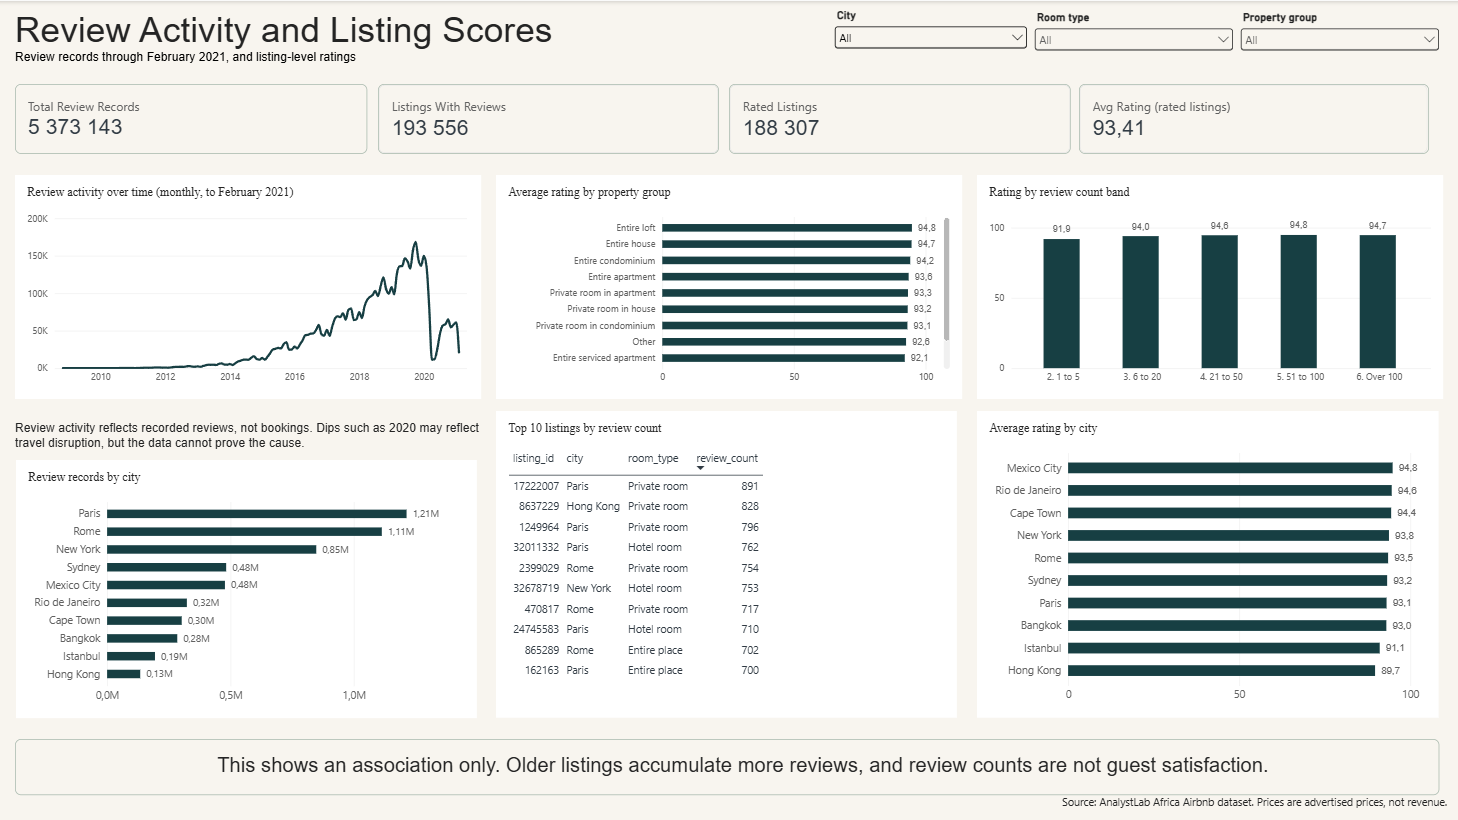

What the dashboard file says about the page in this screenshot:
{"tool":"powerbi","page":{"name":"Review Activity and Listing Scores","canvas":[1920,1080],"ordinal":3},"visuals":[{"type":"textbox","box":[1398.4,1046,515.9,33.3],"z":0},{"type":"textbox","title":"Review Activity and Listing Scores","box":[11.1,11.1,1009.5,87.3],"z":1000},{"type":"slicer","fields":{"Values":["dim_city.city"]},"box":[987.3,12.7,263.5,77.8],"z":2000},{"type":"cardVisual","fields":{"Data":["listings_clean.Total Review Records"]},"box":[11.1,109.5,449.2,92.1],"z":3000},{"type":"cardVisual","fields":{"Data":["listings_clean.Listings With Reviews"]},"box":[488.9,109.5,449.2,92.1],"z":4000},{"type":"cardVisual","fields":{"Data":["listings_clean.Rated Listings"]},"box":[958.7,109.5,449.2,92.1],"z":5000},{"type":"cardVisual","fields":{"Data":["listings_clean.Avg Rating (rated listings)"]},"box":[1431.7,109.5,449.2,92.1],"z":6000},{"type":"lineChart","title":"Review activity over time (monthly, to February 2021)","fields":{"Category":["review_activity_monthly.review_month.Variation.Date Hierarchy.Year","review_activity_monthly.review_month.Variation.Date Hierarchy.Quarter","review_activity_monthly.review_month.Variation.Date Hierarchy.Month","review_activity_monthly.review_month.Variation.Date Hierarchy.Day"],"Y":["listings_clean.Total Review Records"]},"box":[11.1,228.6,607.9,295.2],"z":7000},{"type":"clusteredBarChart","title":"Review records by city records","fields":{"Category":["dim_city.city"],"Y":["listings_clean.Total Review Records"]},"box":[11.1,647.6,607.9,295.2],"z":8000},{"type":"barChart","title":"Average rating by property group","fields":{"Category":["dim_property_type.property_type_group"],"Y":["listings_clean.Avg Rating (rated listings)"]},"box":[642.9,228.6,607.9,295.2],"z":9000},{"type":"barChart","title":"Average rating by city","fields":{"Category":["dim_city.city"],"Y":["listings_clean.Avg Rating (rated listings)"]},"box":[1273,647.6,607.9,295.2],"z":10000},{"type":"columnChart","title":"Rating by review count band","fields":{"Category":["listings_clean.Review Count Band"],"Y":["listings_clean.Avg Rating (rated listings)","listings_clean.Avg Rating (rated listings)"]},"box":[1273,228.6,607.9,295.2],"z":11000},{"type":"tableEx","title":"Top 10 listings by review count","fields":{"Values":["listings_clean.listing_id","dim_city.city","dim_room_type.room_type","listings_clean.review_count"]},"box":[642.9,647.6,607.9,295.2],"z":12000},{"type":"slicer","fields":{"Values":["dim_property_type.property_type_group"]},"box":[1546,12.7,271.4,60.3],"z":13000},{"type":"slicer","fields":{"Values":["dim_room_type.room_type"]},"box":[1261.9,11.1,271.4,60.3],"z":14000},{"type":"textbox","box":[11.1,555.6,631.7,50.8],"z":15000},{"type":"textbox","box":[134.9,971.4,1569.8,61.9],"z":16000}]}

Visuals, with their boxes in screenshot pixels (x1, y1, x2, y2), scaled from the page's 1920x1080 canvas onto the 1458x820 screenshot:
textbox: (left=1062, top=794, right=1454, bottom=819)
"Review Activity and Listing Scores" textbox: (left=8, top=8, right=775, bottom=75)
slicer - dim_city.city: (left=750, top=10, right=950, bottom=69)
cardVisual - listings_clean.Total Review Records: (left=8, top=83, right=350, bottom=153)
cardVisual - listings_clean.Listings With Reviews: (left=371, top=83, right=712, bottom=153)
cardVisual - listings_clean.Rated Listings: (left=728, top=83, right=1069, bottom=153)
cardVisual - listings_clean.Avg Rating (rated listings): (left=1087, top=83, right=1428, bottom=153)
"Review activity over time (monthly, to February 2021)" lineChart: (left=8, top=174, right=470, bottom=398)
"Review records by city records" clusteredBarChart: (left=8, top=492, right=470, bottom=716)
"Average rating by property group" barChart: (left=488, top=174, right=950, bottom=398)
"Average rating by city" barChart: (left=967, top=492, right=1428, bottom=716)
"Rating by review count band" columnChart: (left=967, top=174, right=1428, bottom=398)
"Top 10 listings by review count" tableEx: (left=488, top=492, right=950, bottom=716)
slicer - dim_property_type.property_type_group: (left=1174, top=10, right=1380, bottom=55)
slicer - dim_room_type.room_type: (left=958, top=8, right=1164, bottom=54)
textbox: (left=8, top=422, right=488, bottom=460)
textbox: (left=102, top=738, right=1295, bottom=785)
